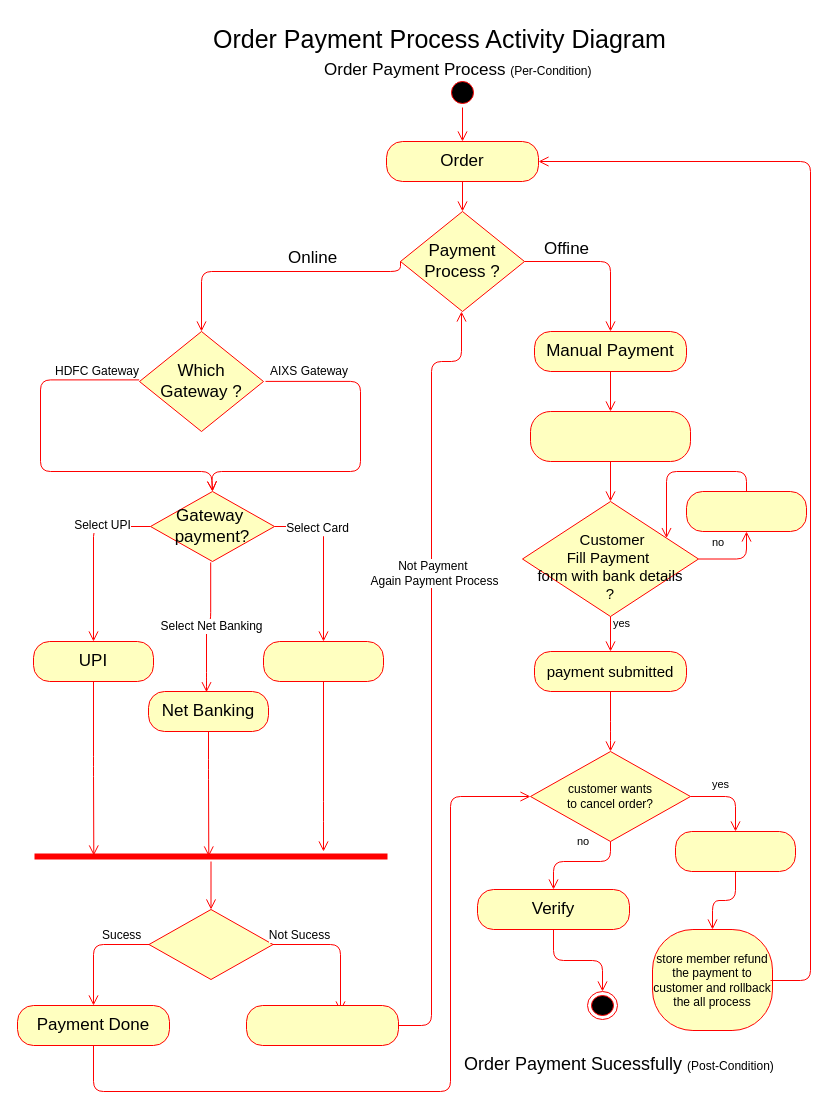
Some shapes in this 838 by 1119 pixel diagram are drawn without their labels. The shapes that lost their labels are listed below. From the top down, each one's centre as x and y in pixels, then its label:
[610,436]: customer receive details from bank
[746,511]: check the bank details
[323,661]: Card
[735,851]: store member ask the reason to order cancel
[210,944]: Complete Selection
[322,1025]: Not Payment Sucessfully
